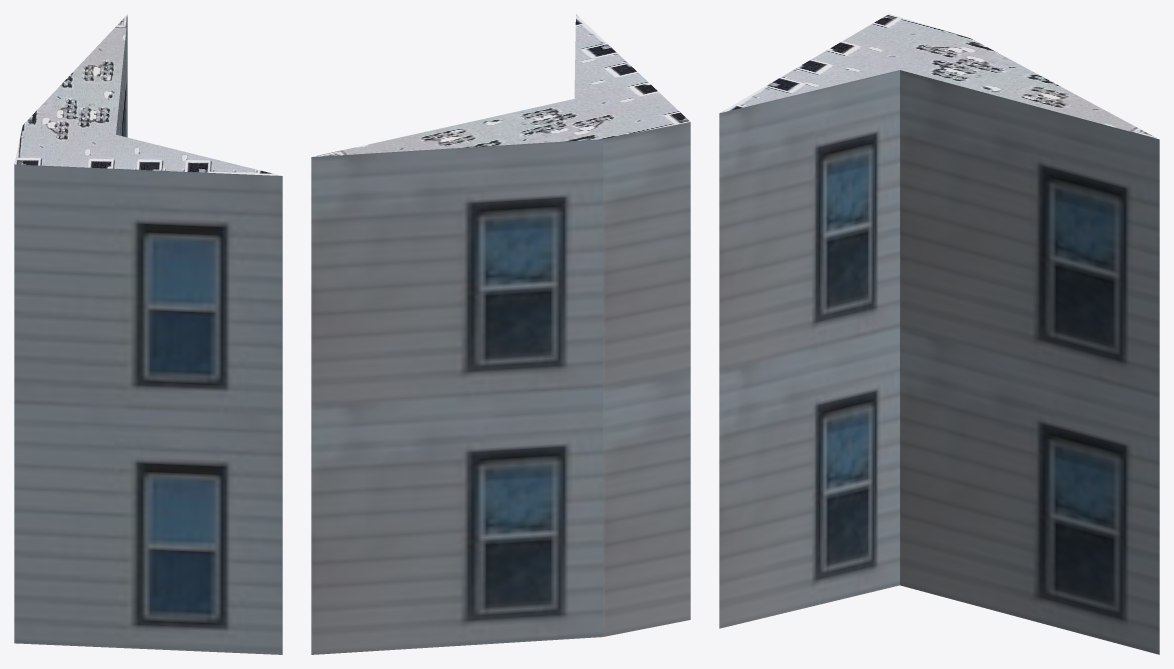
Rendered from ResTex__4715.fbx.
3 renders of one model, left to right at view 1: azimuth 30°, elevation 25°; view 2: azimuth 150°, elevation 25°; view 3: azimuth 270°, elevation 25°, orthographic. The views are drawn at different scales.
Parts seen in each view (by area): view 1: CityEngineMaterial_18_m, CityEngineMaterial_2_m; view 2: CityEngineMaterial_18_m, CityEngineMaterial_2_m; view 3: CityEngineMaterial_18_m, CityEngineMaterial_2_m.
Boxes of the visible parts, x1,y1,x2,y2 form: CityEngineMaterial_18_m: (14,17,282,654); CityEngineMaterial_2_m: (14,14,281,175); CityEngineMaterial_18_m: (311,122,690,654); CityEngineMaterial_2_m: (313,14,690,156); CityEngineMaterial_18_m: (719,70,1159,654); CityEngineMaterial_2_m: (720,14,1158,139).
Bounding box in the file's own units: 3.14 × 6 × 4.65.
2 materials, 2 textured.
